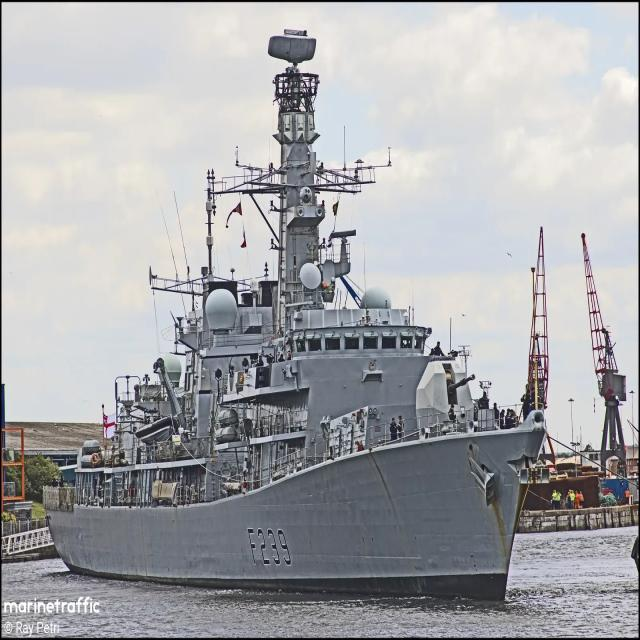Military: (46, 34, 546, 598)
